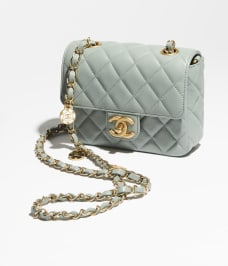channel: (53, 33, 209, 158), (99, 48, 174, 102), (65, 47, 87, 125), (108, 113, 139, 141)
